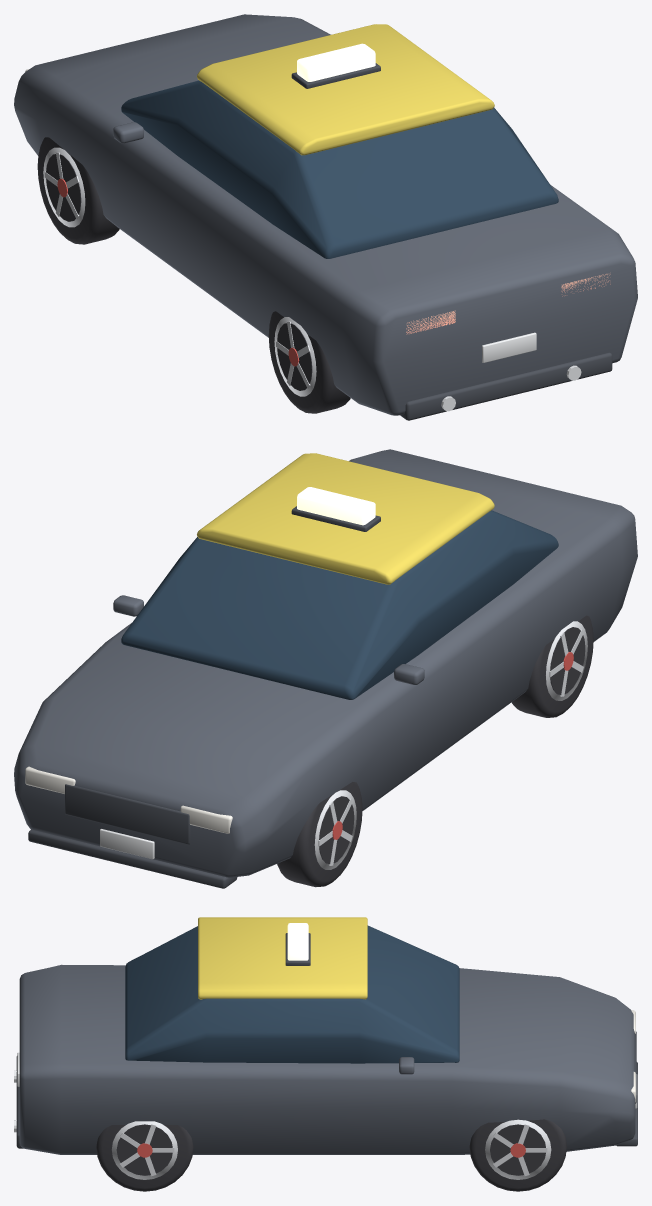
Rendered from Car_TaxiPunta.fbx.
3 renders of one model, top to bottom at view 1: azimuth 30°, elevation 25°; view 2: azimuth 150°, elevation 25°; view 3: azimuth 270°, elevation 25°, orthographic. The views are drawn at different scales.
Parts seen in each view (by area): view 1: Car_Body, Wheel_FL, Wheel_RL; view 2: Car_Body, Wheel_FL, Wheel_RL; view 3: Car_Body, Wheel_FR, Wheel_RR.
Boxes of the visible parts, left/top/right/bottom form: Car_Body: left=14, top=14, right=637, bottom=420; Wheel_FL: left=37, top=137, right=119, bottom=244; Wheel_RL: left=268, top=311, right=350, bottom=413; Car_Body: left=14, top=449, right=637, bottom=888; Wheel_FL: left=277, top=782, right=362, bottom=887; Wheel_RL: left=511, top=615, right=593, bottom=717; Car_Body: left=14, top=917, right=637, bottom=1154; Wheel_FR: left=469, top=1119, right=566, bottom=1191; Wheel_RR: left=96, top=1121, right=193, bottom=1191.
Bounding box in the file's own units: 2.04 × 1.63 × 4.48.
